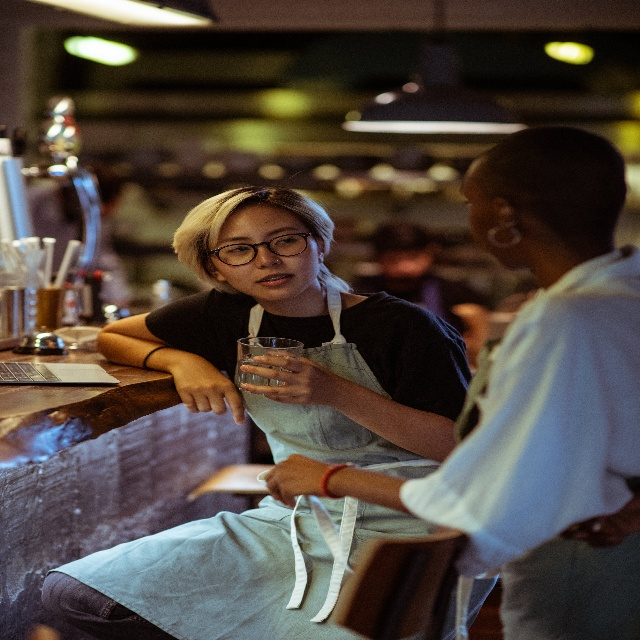Gafas: (208, 244, 314, 260)
Sin_guantes: (239, 352, 336, 410), (174, 349, 246, 424), (269, 455, 344, 511)
